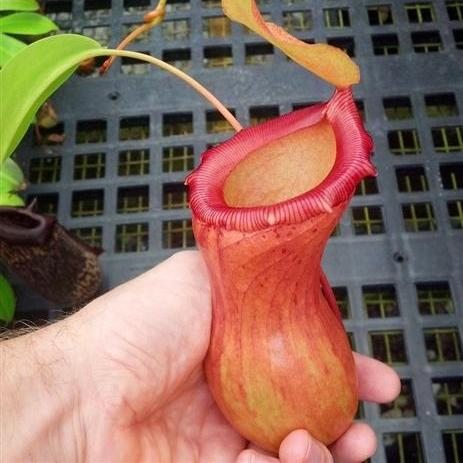ventricosa: (151, 2, 394, 460)
